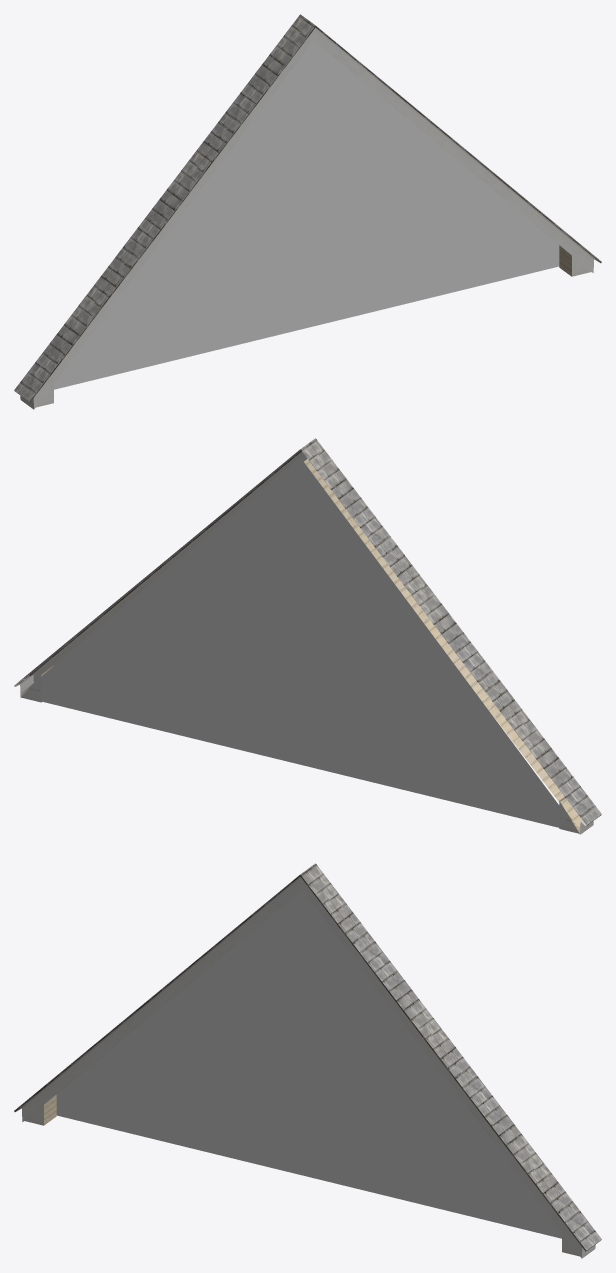
Rendered from Roof_End_8x_COL.FBX.
3 views of the same model, one above another, from view 1: azimuth 30°, elevation 25°; view 2: azimuth 150°, elevation 25°; view 3: azimuth 330°, elevation 25° (orthographic).
Visible parts, largest first — view 1: Roof_End_8x_COL; view 2: Roof_End_8x_COL; view 3: Roof_End_8x_COL.
Part boxes in pixels (box(x1,y1,x2,y2)): Roof_End_8x_COL: box(14, 14, 601, 409); Roof_End_8x_COL: box(14, 438, 601, 834); Roof_End_8x_COL: box(14, 863, 601, 1258).
Bounding box in the file's own units: 884 × 468 × 40.91.
